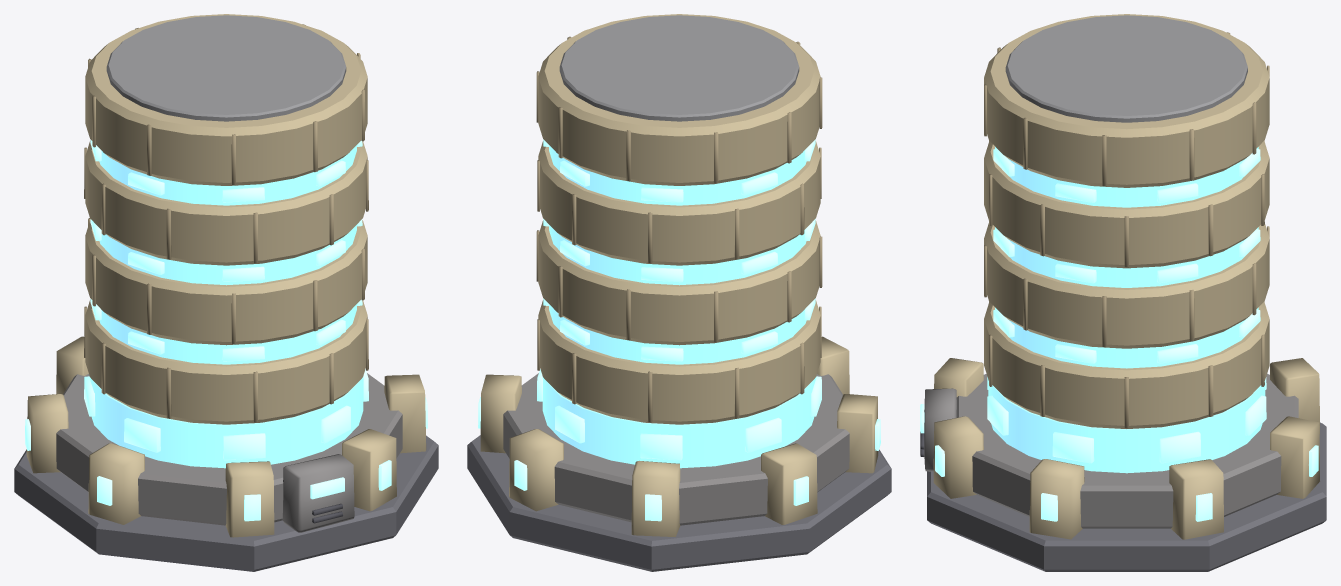
The model's file is OBJ07_sql_database.glb.
3 renders of one model, left to right at view 1: azimuth 30°, elevation 25°; view 2: azimuth 150°, elevation 25°; view 3: azimuth 270°, elevation 25°, orthographic.
Visible parts, largest first — view 1: TopCap, Disk_3, FoundationLow, Disk_0, Disk_2, Disk_1, FoundationUp, BaseBand, PortHousing, Band_0, Band_2, Band_1 (+15 smaller); view 2: Disk_3, TopCap, FoundationLow, Disk_1, Disk_0, Disk_2, FoundationUp, BaseBand, Band_2, Band_0, Band_1, Block5 (+13 smaller); view 3: Disk_3, TopCap, FoundationLow, Disk_1, Disk_2, Disk_0, FoundationUp, BaseBand, Band_2, Band_0, Band_1, Block8 (+14 smaller).
Part boxes in pixels (x1,y1,x2,y2): TopCap: (106, 15, 346, 121); Disk_3: (85, 14, 367, 185); FoundationLow: (14, 435, 438, 571); Disk_0: (85, 299, 367, 424); Disk_2: (85, 140, 367, 265); Disk_1: (85, 220, 367, 345); FoundationUp: (56, 373, 402, 525); BaseBand: (89, 377, 363, 468); PortHousing: (282, 454, 354, 532); Band_0: (99, 304, 356, 364); Band_2: (99, 145, 356, 205); Band_1: (99, 225, 356, 285); Disk_3: (538, 14, 820, 185); TopCap: (559, 15, 799, 121); FoundationLow: (467, 435, 891, 571); Disk_1: (538, 220, 820, 345); Disk_0: (538, 300, 820, 424); Disk_2: (538, 141, 820, 265); FoundationUp: (503, 373, 849, 525); BaseBand: (542, 377, 816, 468); Band_2: (549, 145, 806, 205); Band_0: (549, 304, 806, 364); Band_1: (549, 225, 806, 285); Block5: (761, 443, 817, 524); Disk_3: (984, 14, 1269, 187); TopCap: (1005, 15, 1247, 122); FoundationLow: (927, 422, 1326, 571); Disk_1: (984, 223, 1269, 348); Disk_2: (984, 141, 1269, 268); Disk_0: (984, 302, 1269, 428); FoundationUp: (956, 373, 1298, 528); BaseBand: (988, 380, 1265, 473); Band_2: (995, 146, 1258, 207); Band_0: (995, 307, 1258, 368); Band_1: (995, 227, 1258, 287); Block8: (1169, 459, 1223, 539).
Size of the model in its own units: 1.85 by 2.16 by 1.88.
